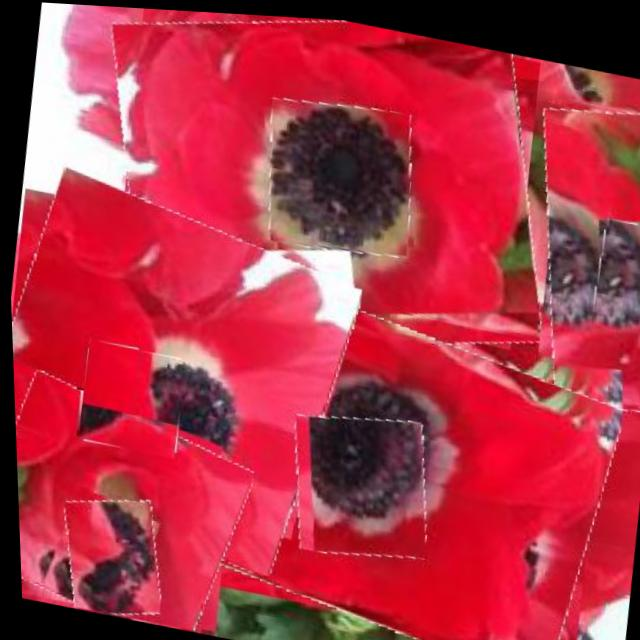Flower: (118, 259, 627, 640), (83, 4, 567, 397), (5, 171, 362, 573), (11, 375, 253, 636), (511, 89, 640, 414), (256, 87, 423, 262), (279, 400, 436, 567), (51, 486, 168, 622), (70, 337, 187, 459), (586, 209, 640, 331)
